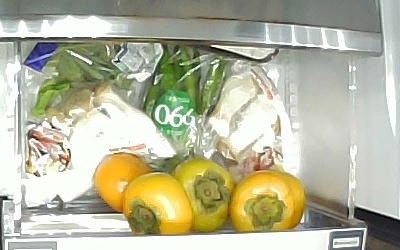persimmon: (123, 172, 194, 237), (173, 159, 233, 233), (230, 170, 296, 232), (92, 152, 155, 214), (278, 171, 306, 229)
